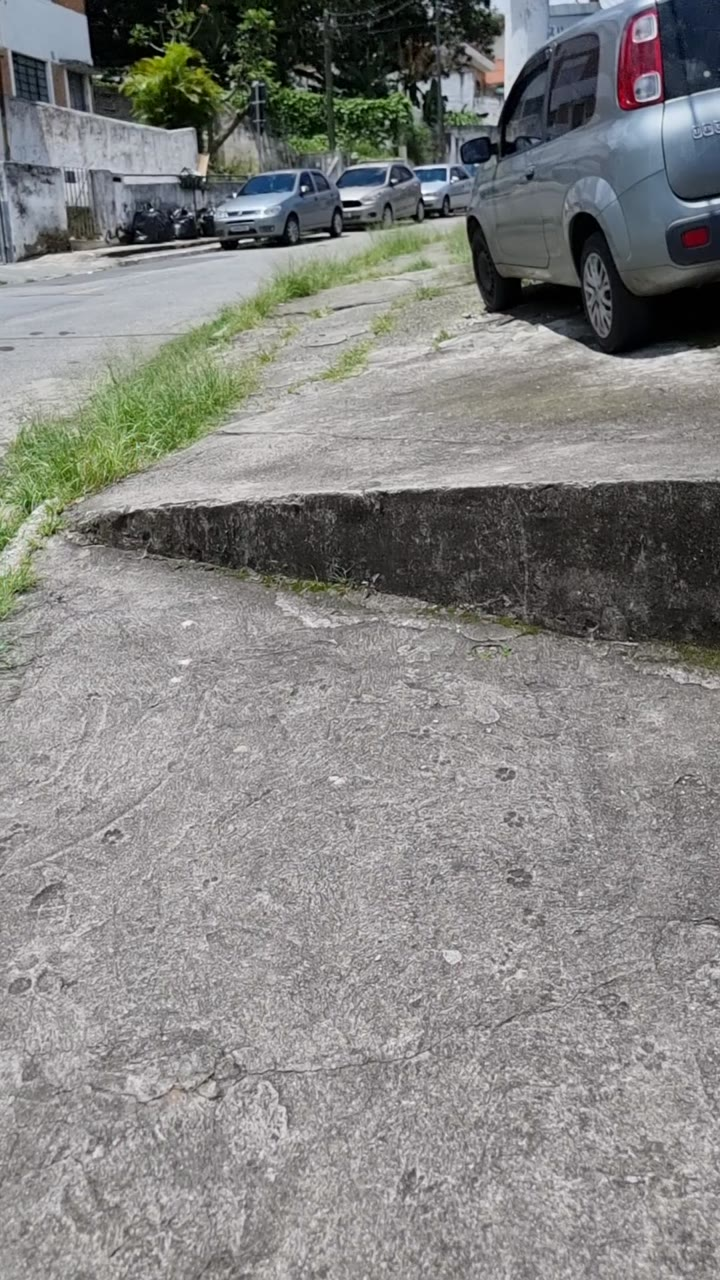desnivel: (72, 474, 720, 640)
